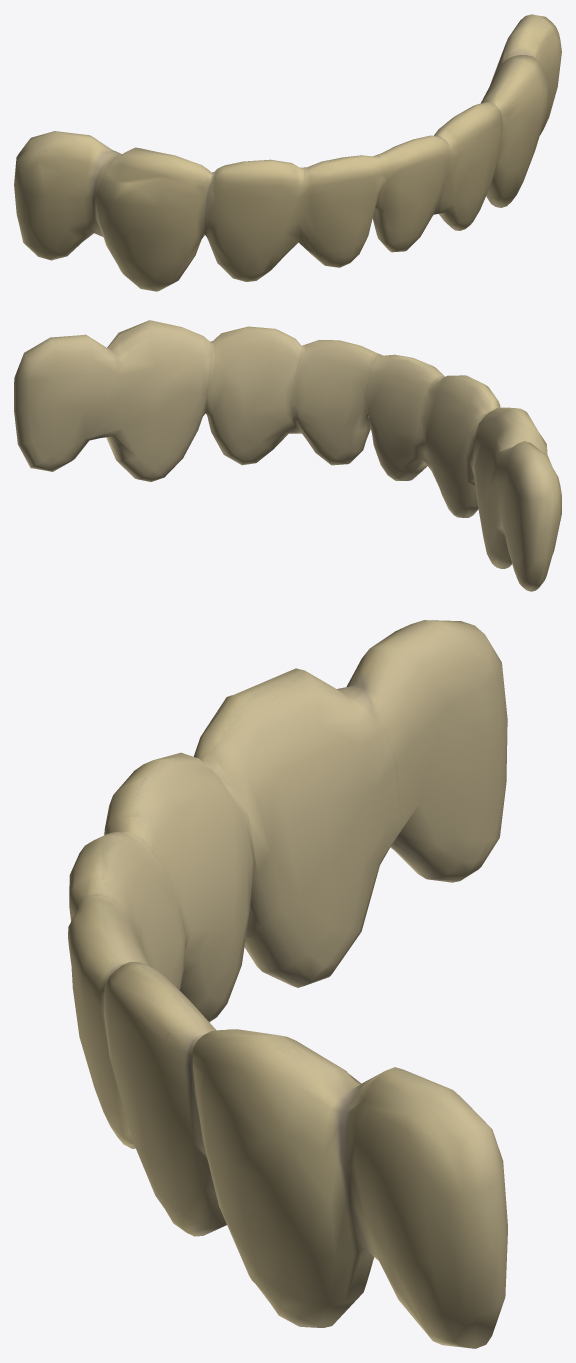
Rendered from grillz-bottom.glb.
3 renders of one model, top to bottom at view 1: azimuth 30°, elevation 25°; view 2: azimuth 150°, elevation 25°; view 3: azimuth 270°, elevation 25°, orthographic. The views are drawn at different scales.
Parts seen in each view (by area): view 1: Mesh0; view 2: Mesh0; view 3: Mesh0.
Part boxes in pixels (box(x1,y1,x2,y2)): Mesh0: box(14, 14, 561, 291); Mesh0: box(14, 320, 561, 591); Mesh0: box(68, 620, 507, 1348).
Size of the model in its own units: 0.2918 by 0.0778 by 0.1034.
Materials: 1 (1 with a texture image).
